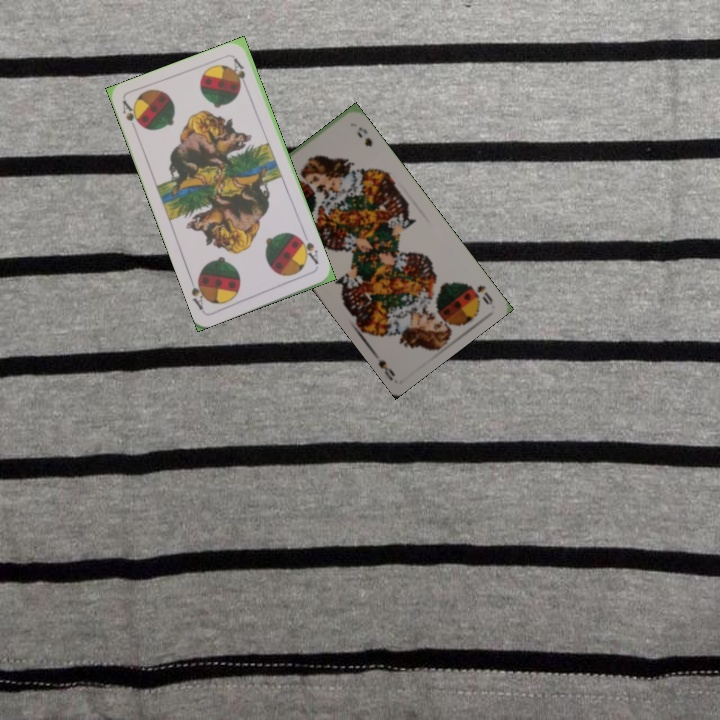SA: (118, 97, 144, 136), (294, 230, 321, 267)
SO: (473, 281, 496, 307)
